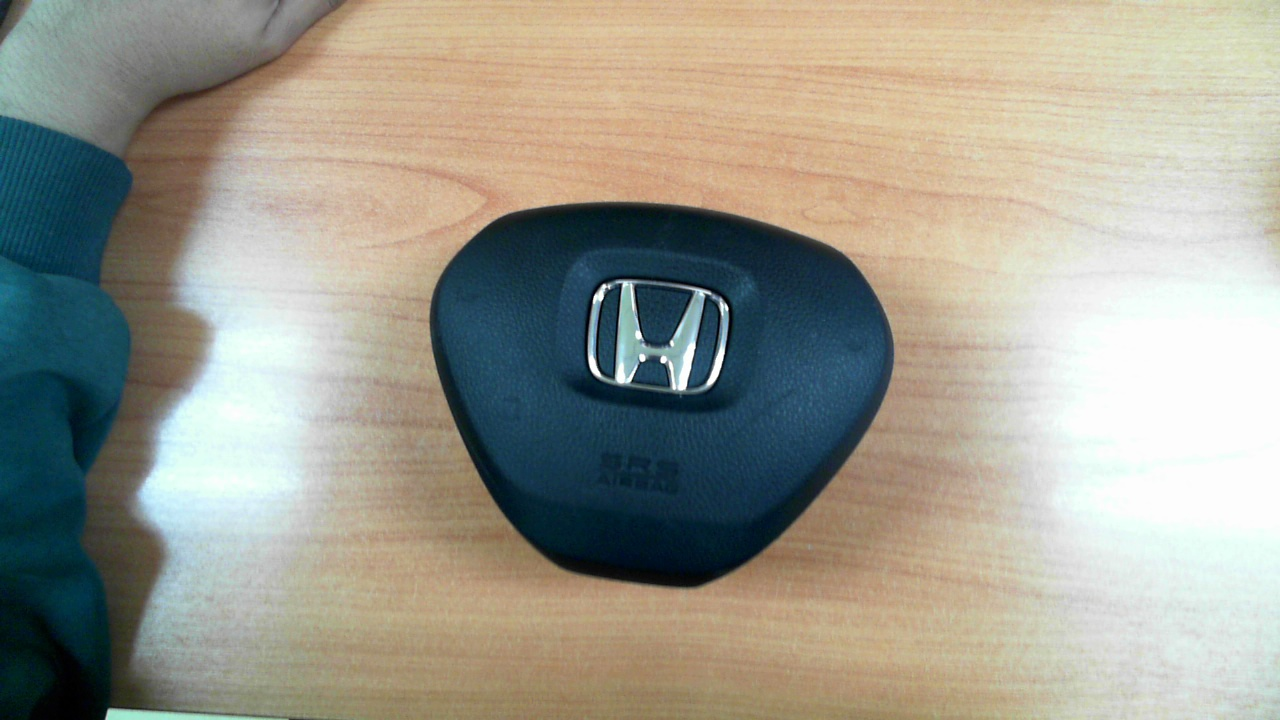Airbag: (429, 201, 894, 588)
Honda: (587, 278, 730, 395)
